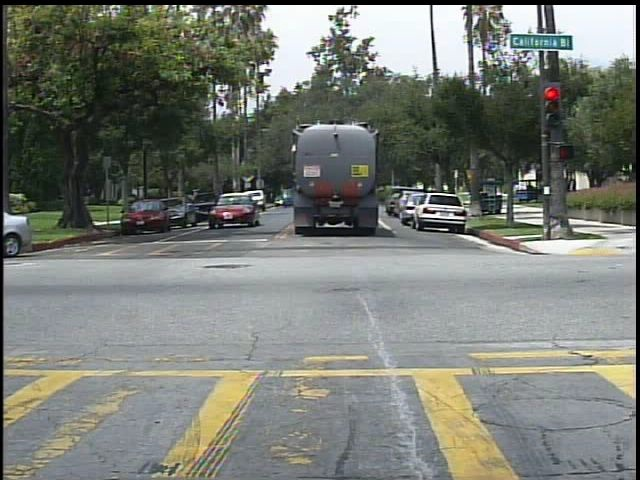person: (565, 170, 583, 203), (517, 180, 530, 199)
